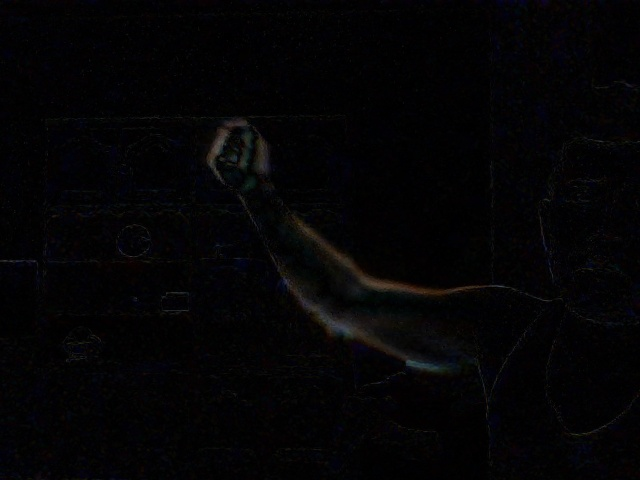hand_fi: (200, 110, 275, 193)
